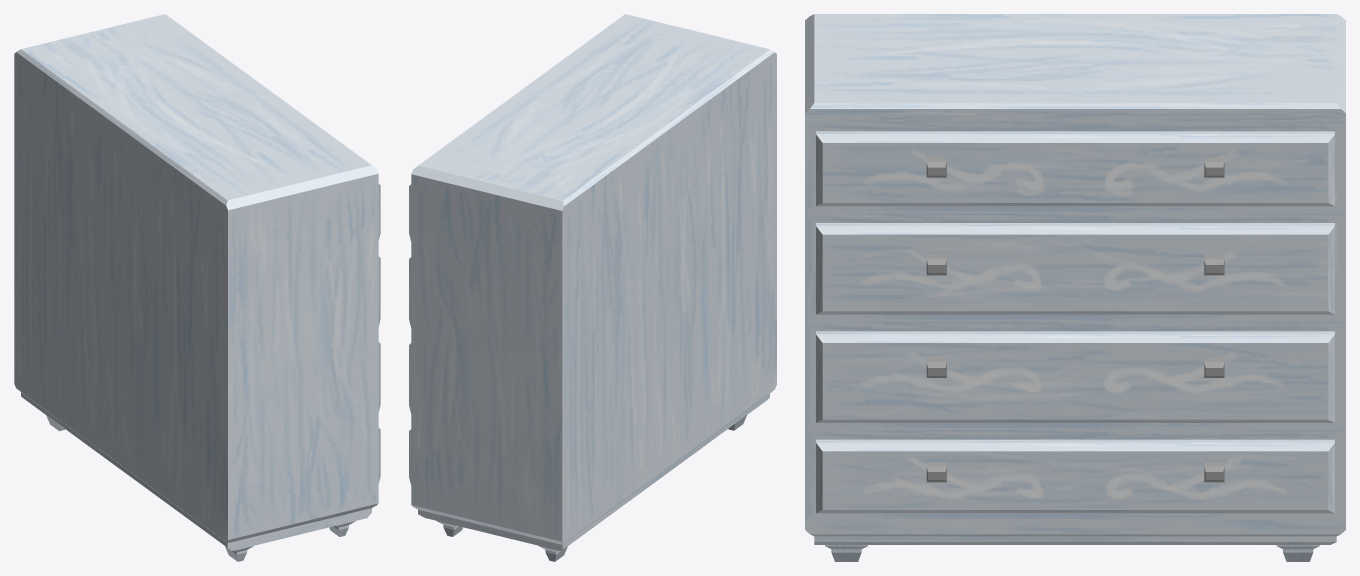
The model's file is Dresser_Entry_01.fbx.
3 views of the same model, side by side, from view 1: azimuth 30°, elevation 25°; view 2: azimuth 150°, elevation 25°; view 3: azimuth 270°, elevation 25° (orthographic). The views are drawn at different scales.
Visible parts, largest first — view 1: Dresser_Entry_01; view 2: Dresser_Entry_01; view 3: Dresser_Entry_01.
Part boxes in pixels (x1,y1,x2,y2): Dresser_Entry_01: [14, 14, 380, 561]; Dresser_Entry_01: [409, 14, 776, 561]; Dresser_Entry_01: [805, 14, 1345, 561].
Bounding box in the file's own units: 0.457 × 0.9599 × 1.
